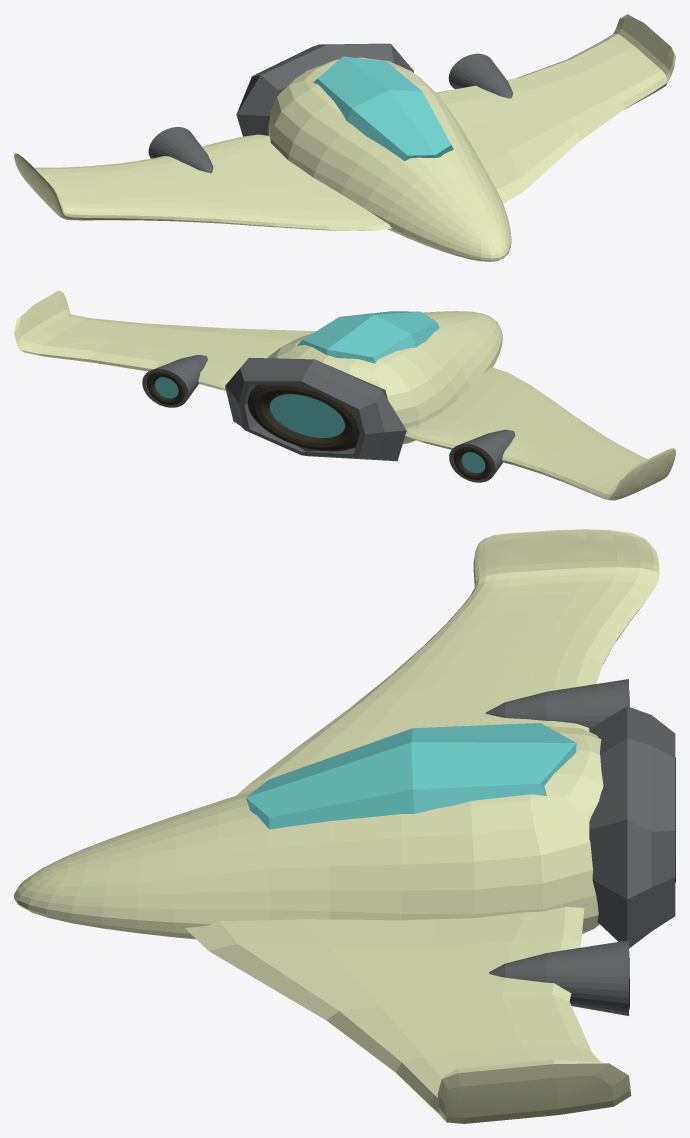
File: Caça ajeitado.fbx
3 views of the same model, one above another, from view 1: azimuth 30°, elevation 25°; view 2: azimuth 150°, elevation 25°; view 3: azimuth 270°, elevation 25° (orthographic). The views are drawn at different scales.
Parts seen in each view (by area): view 1: Cube, Cube.002, Cube.001, Cube.004, Cube.003, Cylinder.001, Cylinder; view 2: Cube.002, Cube.001, Cube, Cube.003, Cube.004, Torus, Plane, Cylinder.001, Cylinder, Torus.000, Torus.002, Plane.002 (+1 smaller); view 3: Cube, Cube.001, Cube.002, Cube.004, Cube.003, Cylinder.001, Cylinder.
Part boxes in pixels (bbox=[...]): Cube: bbox=[268, 57, 511, 261]; Cube.002: bbox=[14, 134, 391, 230]; Cube.001: bbox=[436, 14, 675, 203]; Cube.004: bbox=[313, 56, 453, 160]; Cube.003: bbox=[236, 43, 413, 136]; Cylinder.001: bbox=[448, 53, 512, 98]; Cylinder: bbox=[148, 127, 213, 173]; Cube.002: bbox=[405, 367, 675, 500]; Cube.001: bbox=[14, 290, 315, 390]; Cube: bbox=[268, 311, 502, 444]; Cube.003: bbox=[225, 357, 406, 461]; Cube.004: bbox=[297, 311, 439, 363]; Torus: bbox=[247, 384, 359, 451]; Plane: bbox=[270, 394, 344, 437]; Cylinder.001: bbox=[142, 355, 207, 407]; Cylinder: bbox=[449, 429, 515, 482]; Torus.000: bbox=[146, 372, 184, 404]; Torus.002: bbox=[453, 447, 491, 479]; Plane.002: bbox=[155, 377, 178, 398]; Cube: bbox=[14, 726, 603, 939]; Cube.001: bbox=[185, 906, 631, 1123]; Cube.002: bbox=[236, 529, 659, 795]; Cube.004: bbox=[246, 723, 576, 829]; Cube.003: bbox=[589, 706, 675, 948]; Cylinder.001: bbox=[489, 940, 628, 1015]; Cylinder: bbox=[485, 679, 628, 728].
Size of the model in its own units: 1114 by 165 by 586.
